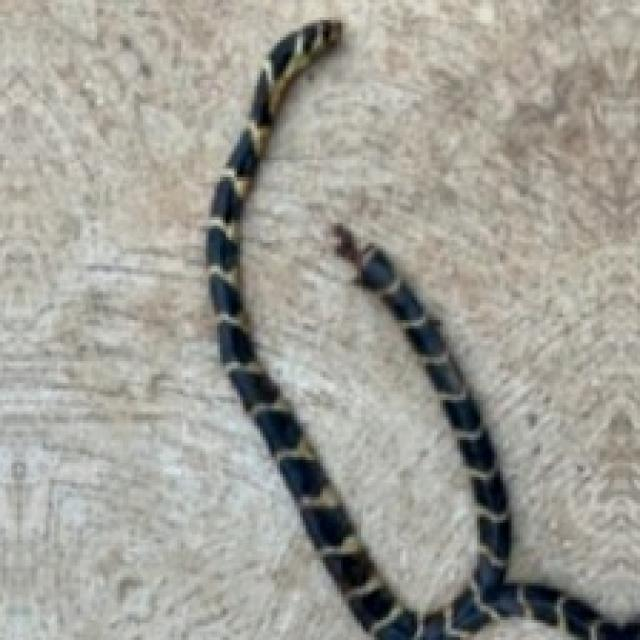king cobra: (206, 20, 637, 637)
